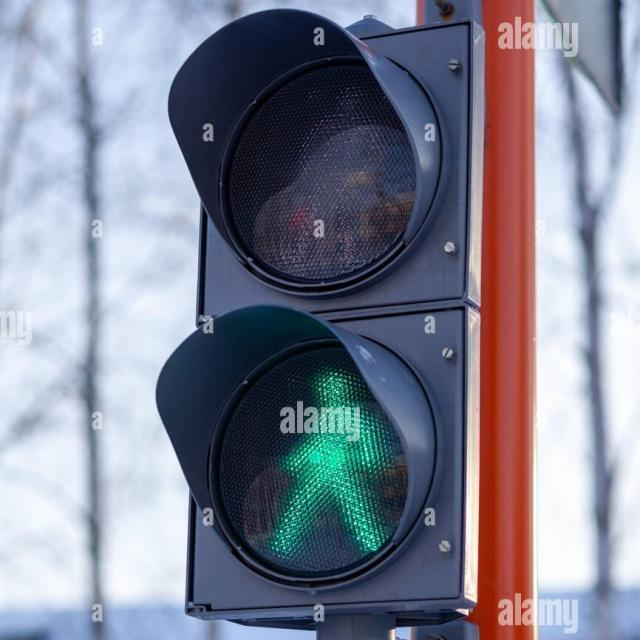geen-crossing: (254, 354, 396, 584)
